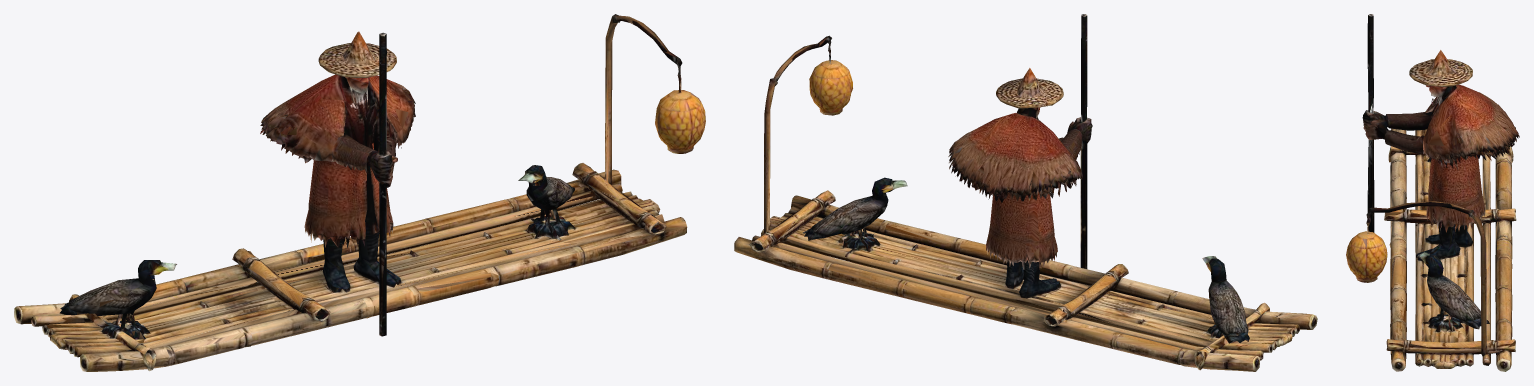
The model's file is fisherman.glb.
The picture shows the model from 3 angles, left to right: view 1: azimuth 30°, elevation 25°; view 2: azimuth 150°, elevation 25°; view 3: azimuth 270°, elevation 25°; orthographic projection. The views are drawn at different scales.
Visible parts, largest first — view 1: fisherman; view 2: fisherman; view 3: fisherman.
Boxes of the visible parts, box(x1,y1,x2,y2) form: fisherman: box(14, 14, 705, 371); fisherman: box(734, 14, 1317, 371); fisherman: box(1346, 14, 1519, 371).
Size of the model in its own units: 1 by 0.4793 by 0.3131.
Materials: 1 (1 with a texture image).
